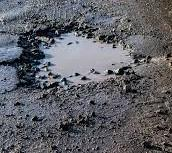pothole: (9, 15, 139, 95)
